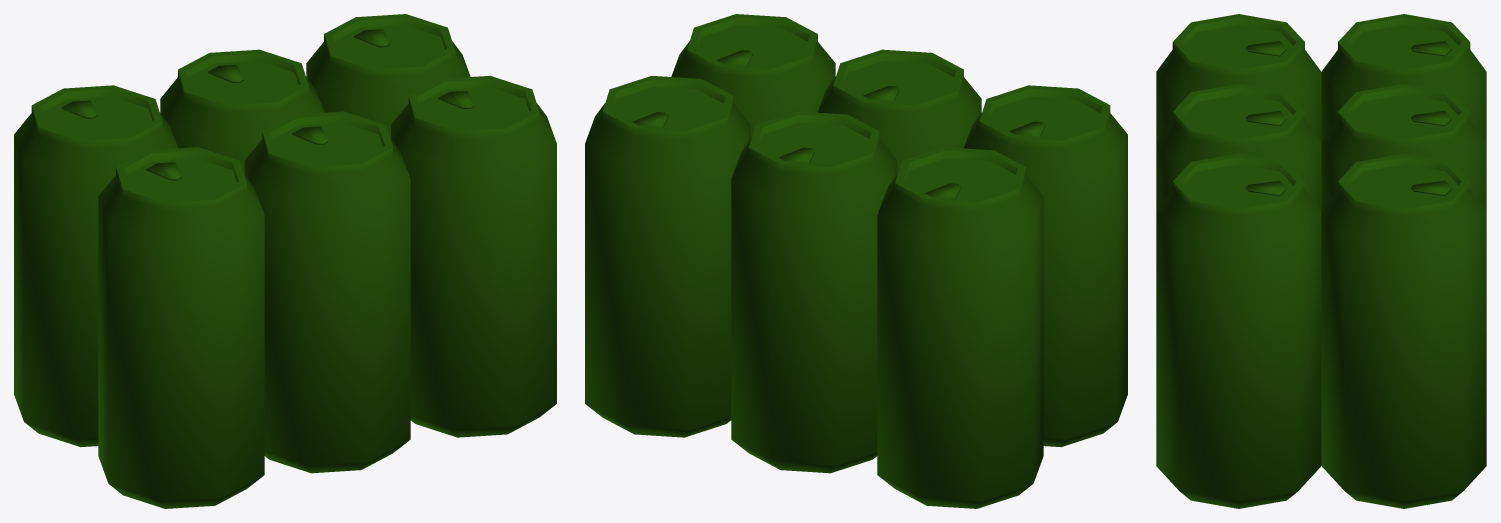
Rendered from p_Soda_Sixpack.fbx.
3 views of the same model, side by side, from view 1: azimuth 30°, elevation 25°; view 2: azimuth 150°, elevation 25°; view 3: azimuth 270°, elevation 25° (orthographic). The views are drawn at different scales.
Parts seen in each view (by area): view 1: p_Soda_SixPack; view 2: p_Soda_SixPack; view 3: p_Soda_SixPack.
Boxes of the visible parts, x1,y1,x2,y2 form: p_Soda_SixPack: [14, 14, 556, 508]; p_Soda_SixPack: [585, 14, 1127, 508]; p_Soda_SixPack: [1156, 14, 1486, 508].
Bounding box in the file's own units: 18.75 × 12.5 × 12.5.
